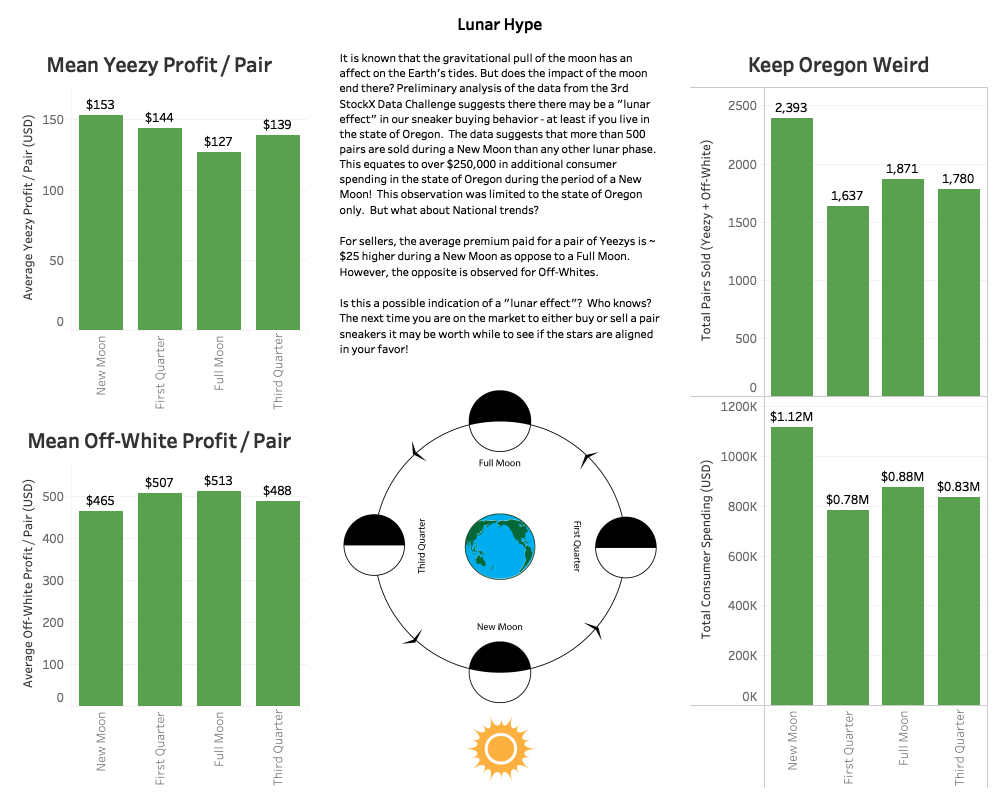

This screenshot's page, from the dashboard's own definition file:
{"tool":"tableau","page":{"name":"Dashboard 1","canvas":[1000,800],"ordinal":0},"visuals":[{"type":"text","box":[8,8,984,32]},{"type":"worksheet","title":"Average Yeezy Profit / Pair","mark":"Automatic","rows":["Calculation_4611193466824638464"],"cols":["Moon Phase"],"box":[8,40,303,376]},{"type":"blank","box":[311,40,22,752]},{"type":"text","box":[333,40,333,342]},{"type":"blank","box":[666,40,20,752]},{"type":"worksheet","title":"Keep Oregon Weird","mark":"Automatic","rows":["Total Pairs","Grand Total"],"cols":["State","Moon Phase"],"box":[686,40,306,752]},{"type":"image","param":"/Users/sarom/Downloads/stockx/moonphase-01.png","box":[333,382,333,410]},{"type":"worksheet","title":"Average Off-White Profit / Pair","mark":"Automatic","rows":["Calculation_4611193466825687041"],"cols":["Moon Phase"],"box":[8,416,303,376]}]}

Visuals, with their boxes in screenshot pixels (x1, y1, x2, y2), scaled from the page's 1000x800 canvas onto the 1000x800 screenshot:
text: 8/8/992/40
"Average Yeezy Profit / Pair" worksheet: 8/40/311/416
blank: 311/40/333/792
text: 333/40/666/382
blank: 666/40/686/792
"Keep Oregon Weird" worksheet: 686/40/992/792
image: 333/382/666/792
"Average Off-White Profit / Pair" worksheet: 8/416/311/792
